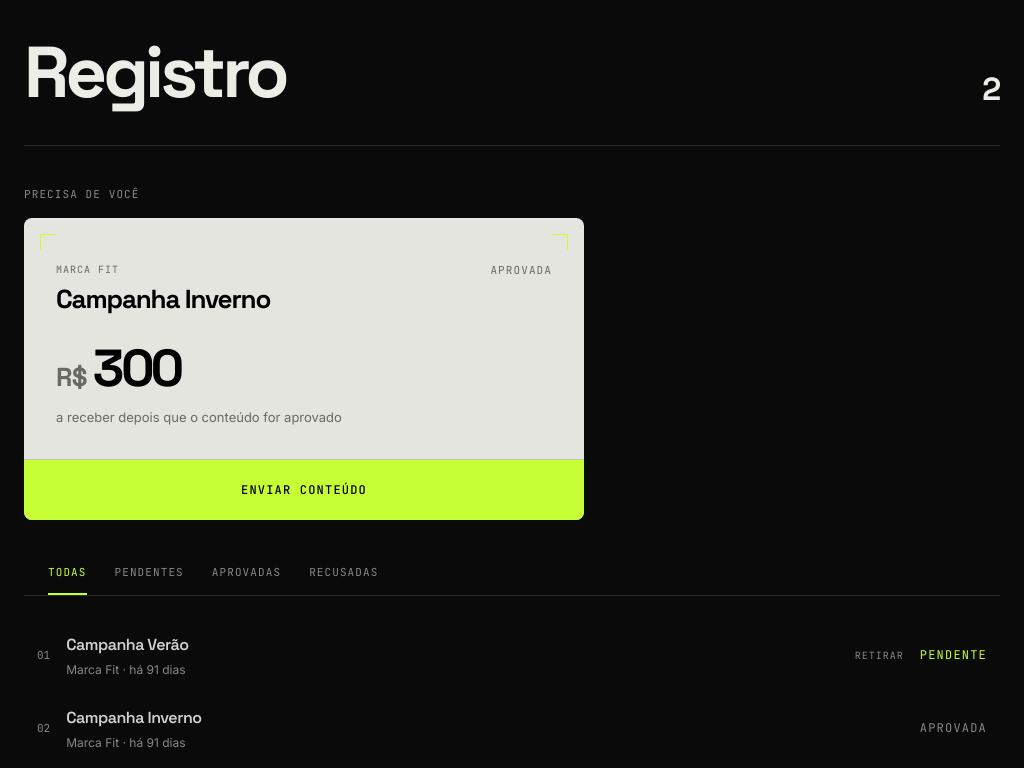
Test: MyApplicationsPage › filtra a lista de "Registro" por status pelas abas — a placa em destaque não filtra
The width and height of the screenshot is (1024, 768).
Expected: the text "Campanha Verão" is shown once, [66,634,188,655]
Expected: the text "Campanha Inverno" is shown 2 times, [56,285,270,314]; [66,707,202,728]
Click the button "Aprovadas".
click(246, 580)  # box [212,564,281,595]
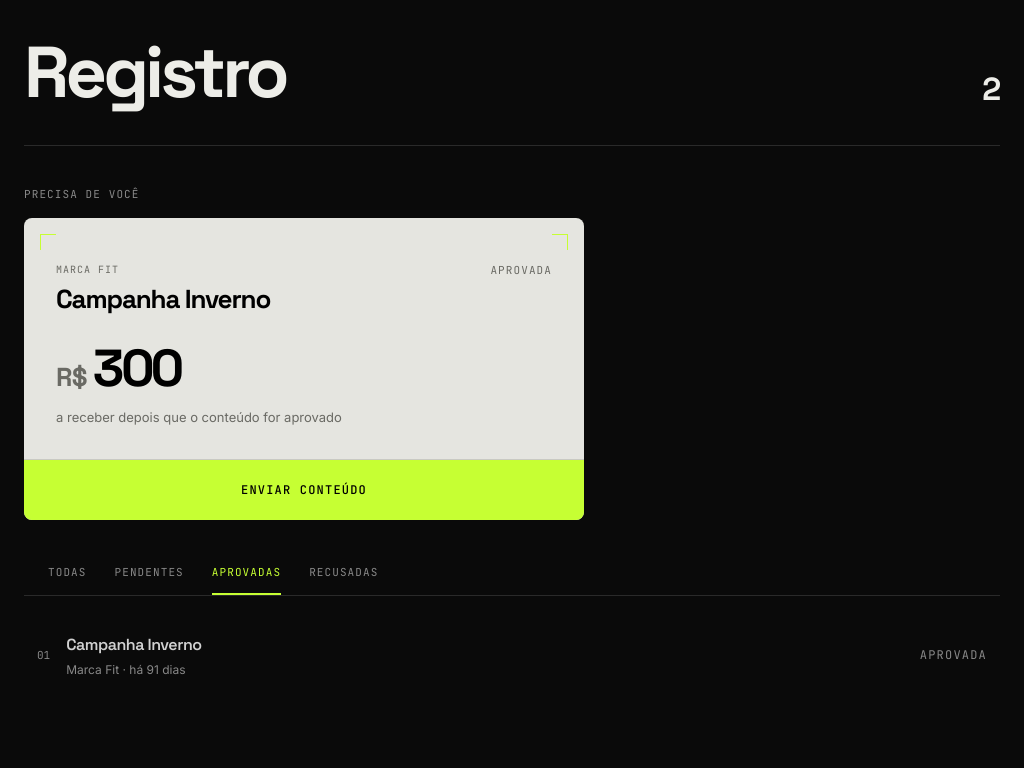
Expected: the text "Campanha Inverno" is shown 2 times, [56,285,270,314]; [66,634,202,655]
Expected: the text "Campanha Verão" is gone
